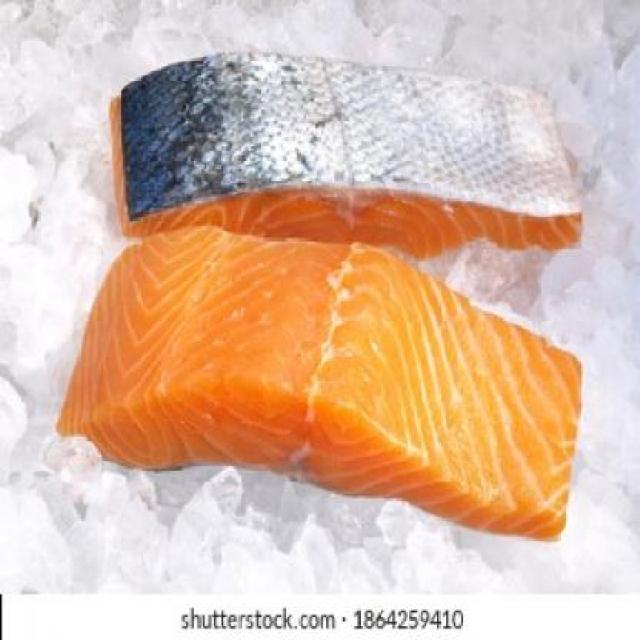salmon: (59, 222, 592, 548), (88, 41, 592, 272)
